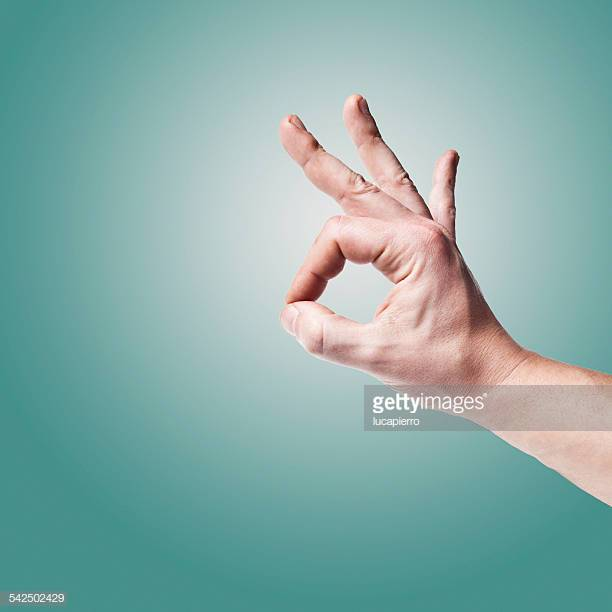oksign: (272, 94, 470, 392)
